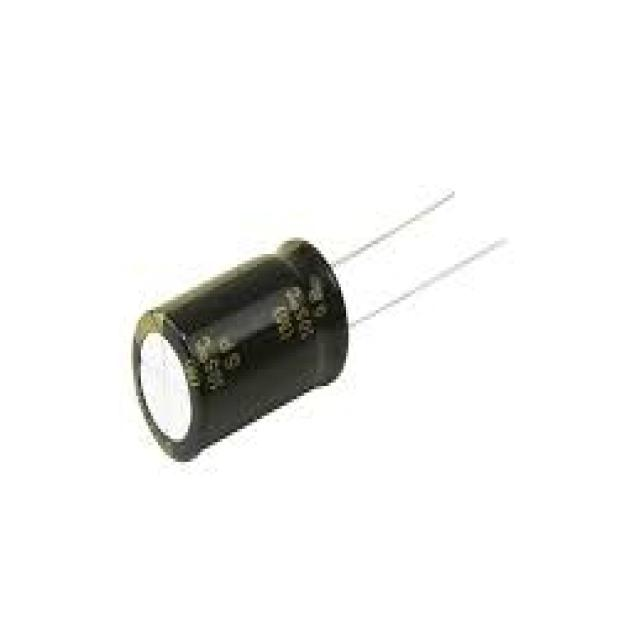Capacitor: (133, 238, 353, 465)
